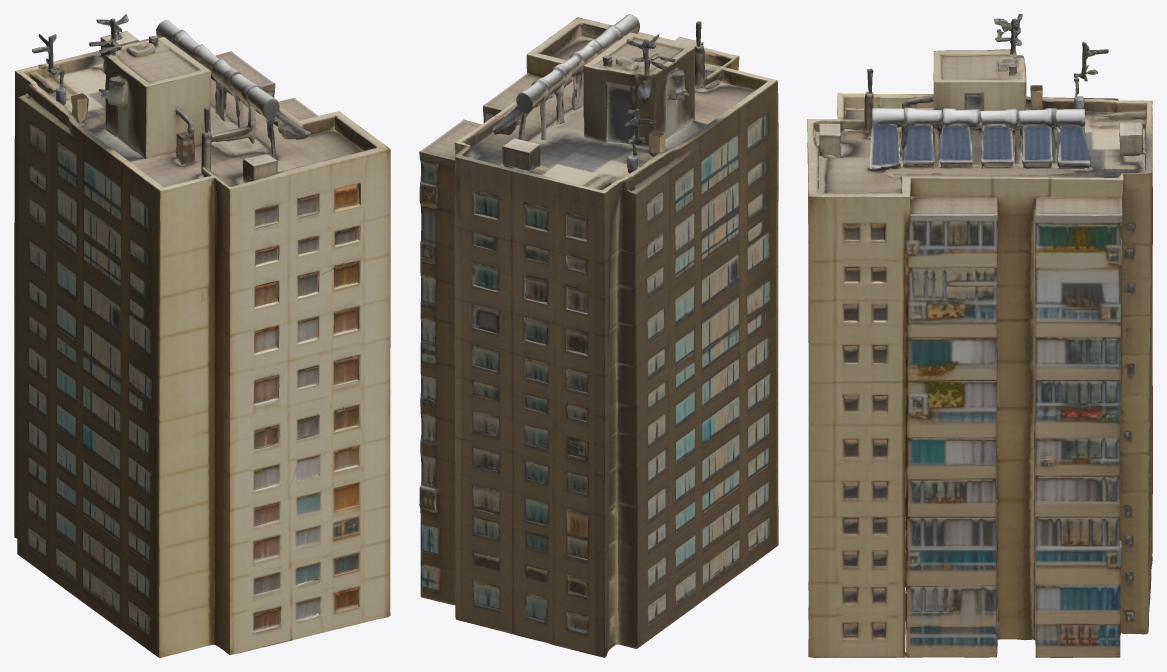
Rendered from bld_concrete_tower_7090.glb.
3 renders of one model, left to right at view 1: azimuth 30°, elevation 25°; view 2: azimuth 150°, elevation 25°; view 3: azimuth 270°, elevation 25°, orthographic.
Parts seen in each view (by area): view 1: geometry_0; view 2: geometry_0; view 3: geometry_0.
Boxes of the visible parts, left/top/right/bottom form: geometry_0: left=14, top=14, right=390, bottom=657; geometry_0: left=419, top=14, right=778, bottom=657; geometry_0: left=807, top=14, right=1152, bottom=657.
Size of the model in its own units: 20.34 by 50 by 28.17.
1 material, 1 textured.
